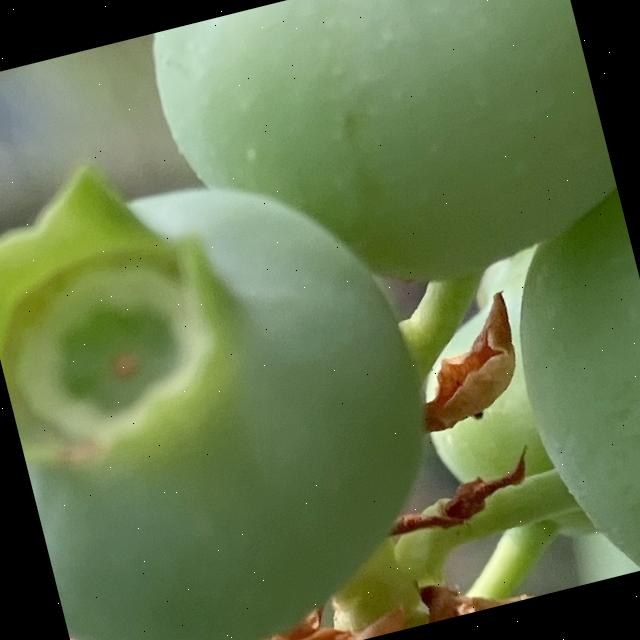Blueberries: (0, 101, 473, 640), (137, 0, 629, 340), (466, 147, 640, 588)
